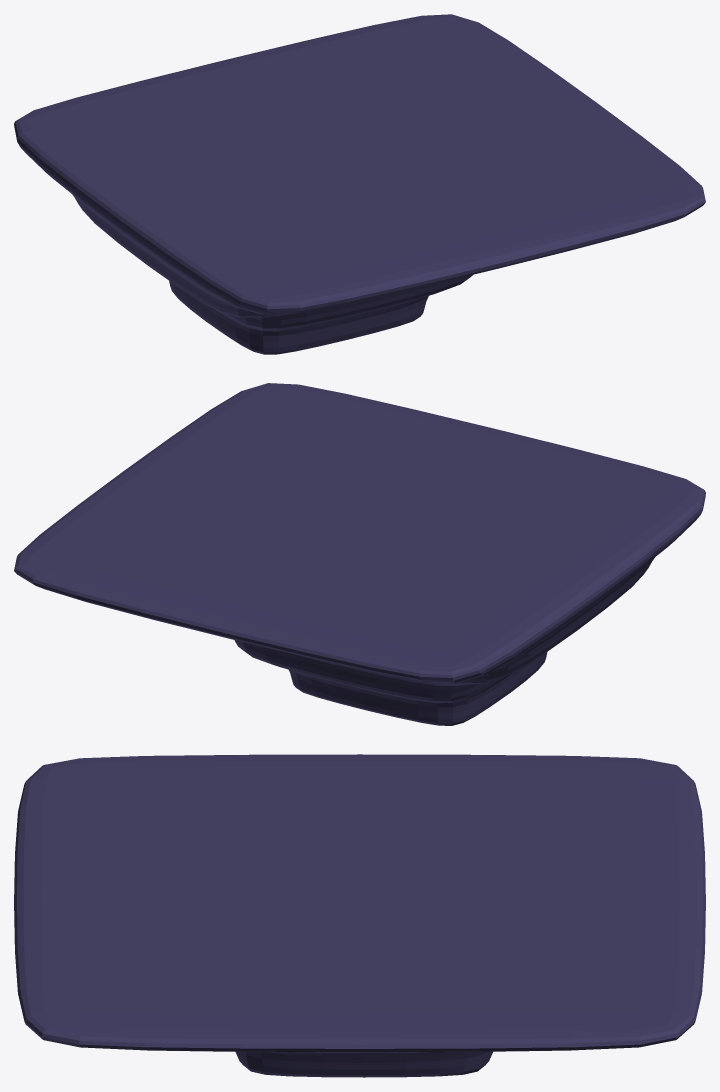
File: main-loc.fbx
3 renders of one model, top to bottom at view 1: azimuth 30°, elevation 25°; view 2: azimuth 150°, elevation 25°; view 3: azimuth 270°, elevation 25°, orthographic. The views are drawn at different scales.
Visible parts, largest first — view 1: Cube.009; view 2: Cube.009; view 3: Cube.009.
Boxes of the visible parts, bbox=[...] form: Cube.009: bbox=[14, 14, 705, 354]; Cube.009: bbox=[14, 383, 705, 725]; Cube.009: bbox=[14, 754, 705, 1077].
Size of the model in its own units: 25739 by 6914 by 25695.
